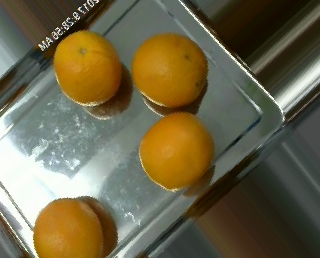Orange: (138, 110, 214, 189), (130, 33, 207, 109), (53, 30, 122, 106), (33, 197, 103, 258)
